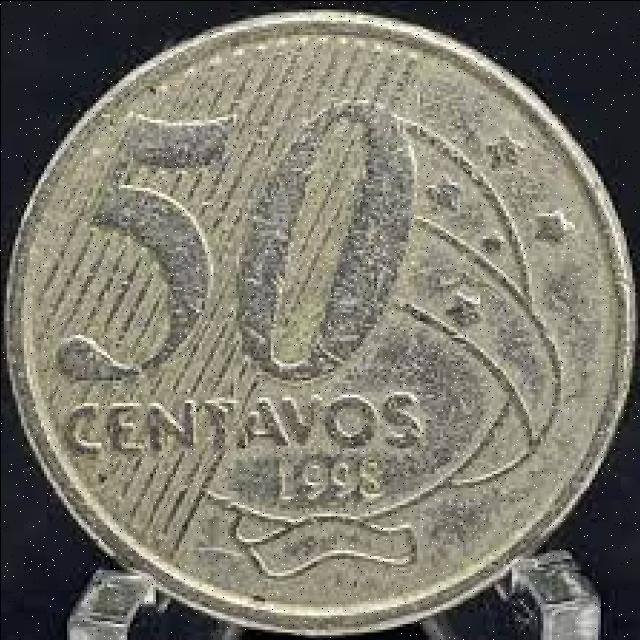50 cent: (7, 8, 627, 600)
